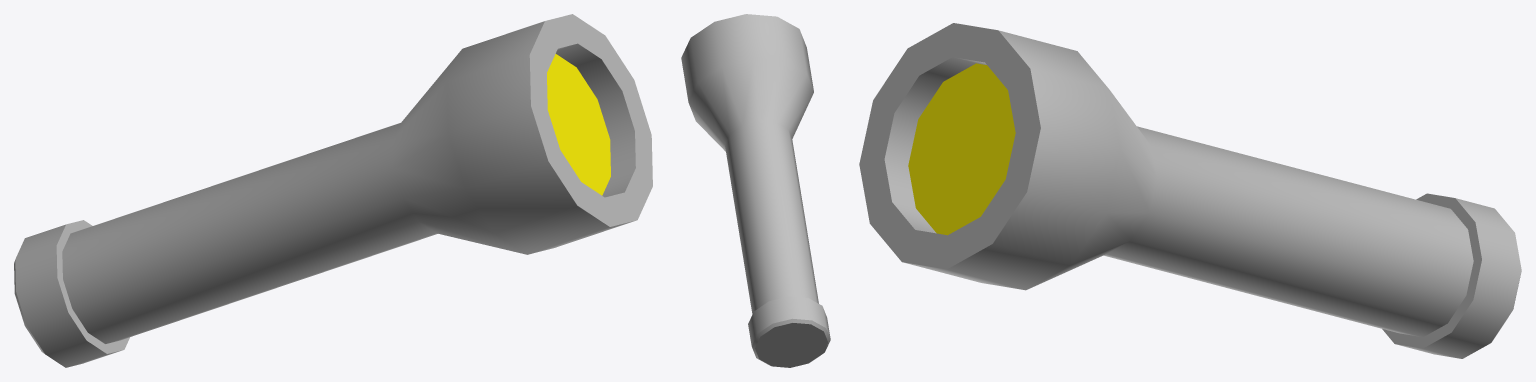
The model's file is Torch.fbx.
3 views of the same model, side by side, from view 1: azimuth 30°, elevation 25°; view 2: azimuth 150°, elevation 25°; view 3: azimuth 270°, elevation 25° (orthographic). The views are drawn at different scales.
Parts seen in each view (by area): view 1: Torch; view 2: Torch; view 3: Torch.
Part boxes in pixels (bbox=[...]): Torch: bbox=[14, 14, 652, 367]; Torch: bbox=[681, 14, 830, 367]; Torch: bbox=[859, 23, 1521, 358].
Bounding box in the file's own units: 20.26 × 18.4 × 23.35.
